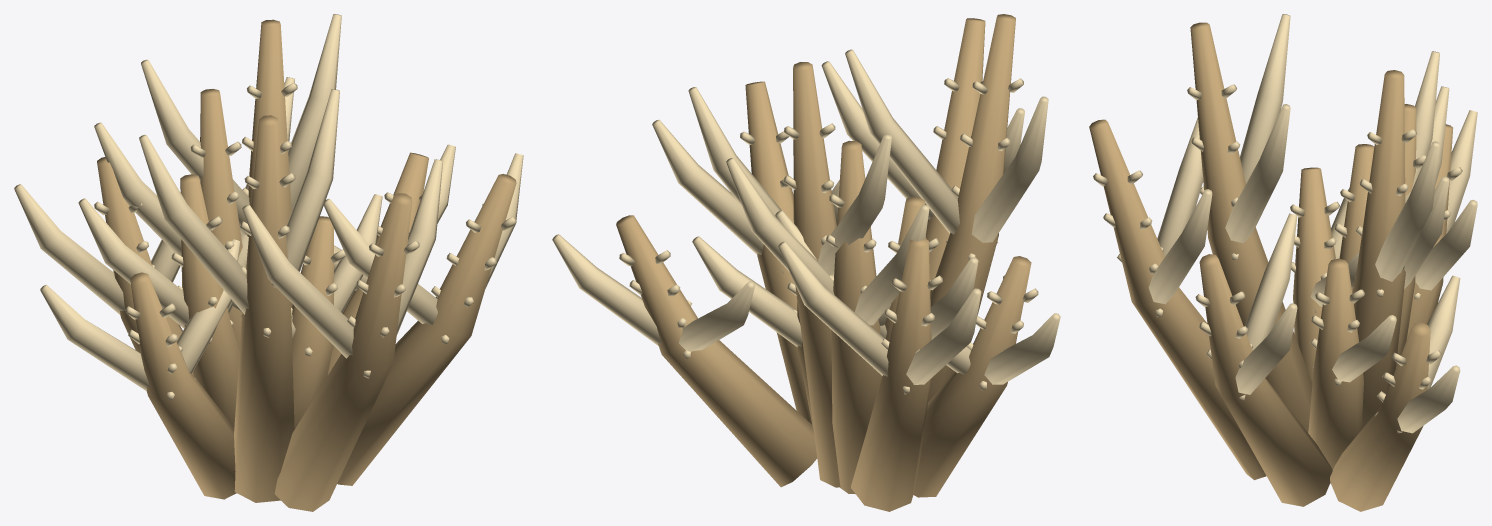
The model's file is staghorn-coral.glb.
3 views of the same model, side by side, from view 1: azimuth 30°, elevation 25°; view 2: azimuth 150°, elevation 25°; view 3: azimuth 270°, elevation 25° (orthographic). The views are drawn at different scales.
Visible parts, largest first — view 1: staghorn-coral; view 2: staghorn-coral; view 3: staghorn-coral.
Part boxes in pixels (left/top/right/bottom): staghorn-coral: left=14, top=14, right=523, bottom=511; staghorn-coral: left=552, top=14, right=1060, bottom=511; staghorn-coral: left=1089, top=14, right=1477, bottom=511.
Size of the model in its own units: 0.9495 by 0.8534 by 0.7137.
